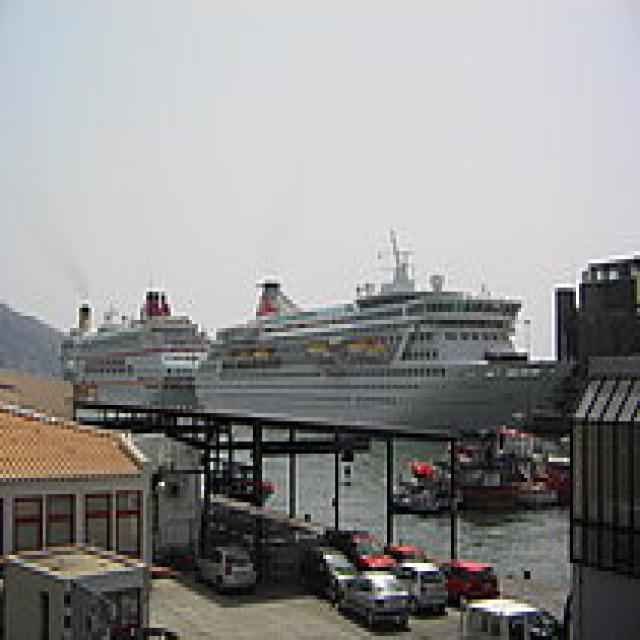Ship: (191, 252, 556, 439)
